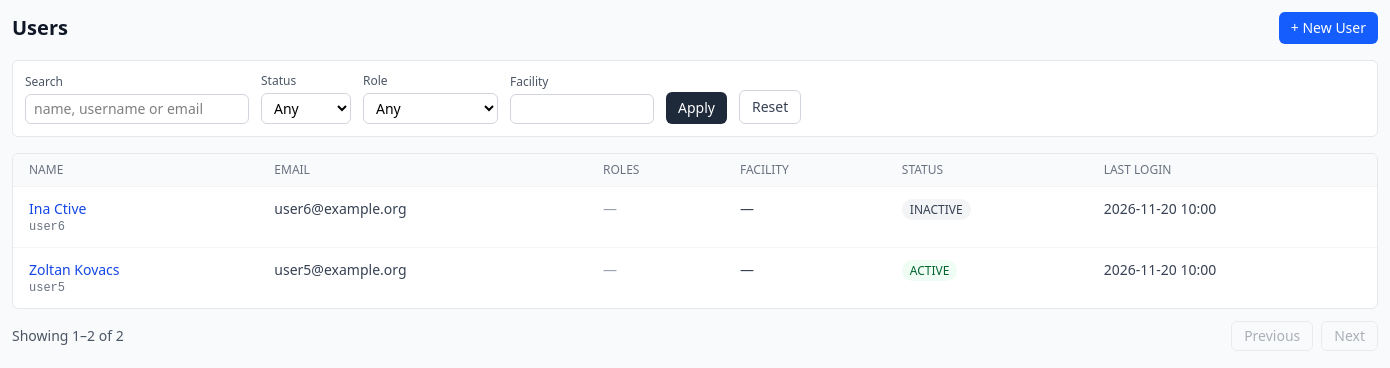
Scenario: UsersListPage › filters by status and by search, sending the filters to the server
Expected: the link "Zoltan Kovacs" is shown, [29,260,120,279]
Select "Inactive" in the dropdown labelled "Status" at (306, 108), box [261,93,351,124]
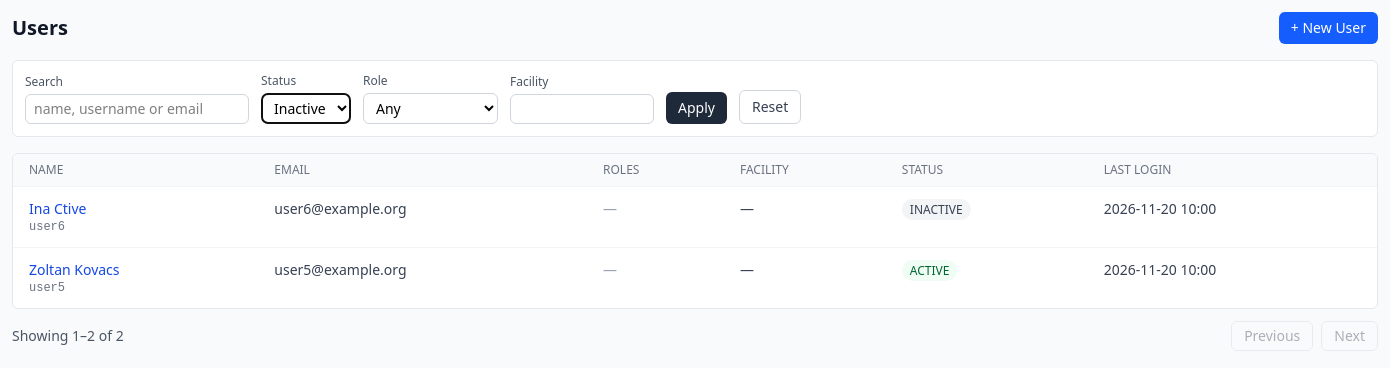
Click the button "Apply".
click(696, 108)  # box [666,92,727,124]
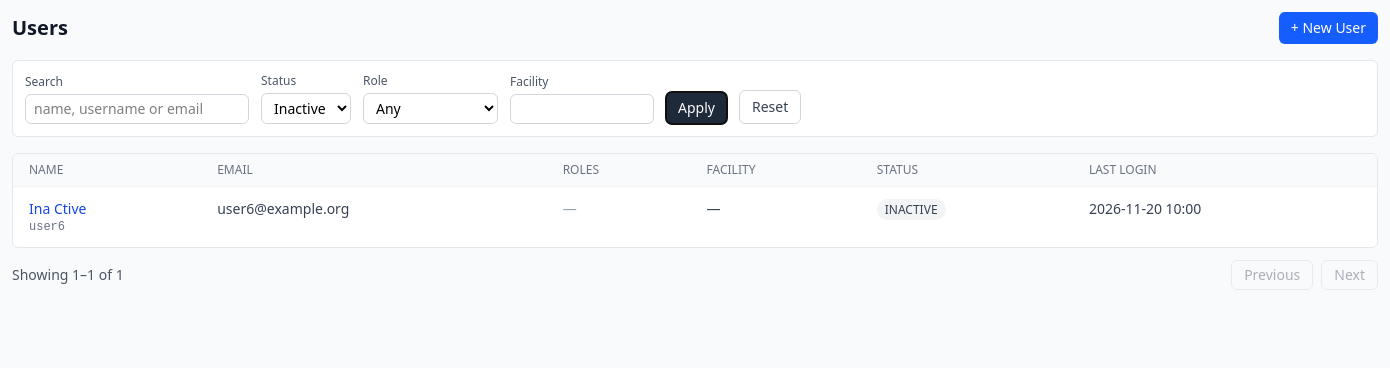
Expected: the link "Ina Ctive" is shown, [29,199,86,218]
Now the link "Zoltan Kovacs" is gone
Click the button "Reset".
click(770, 107)  # box [739,90,801,124]
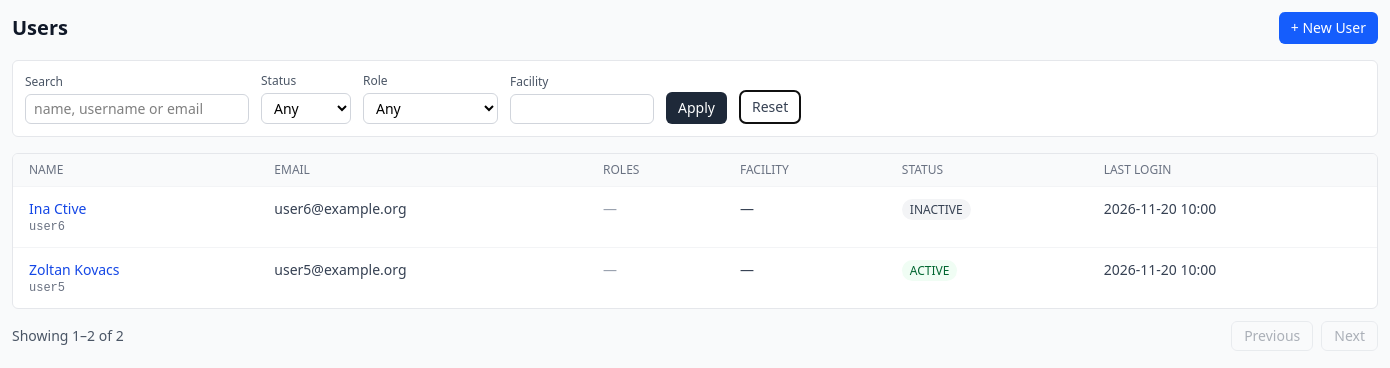
Now the link "Zoltan Kovacs" is shown, box [29,260,120,279]
Type "kovacs" into the field labelled "Search".
click(137, 109); type("kovacs")  # box [25,94,249,124]
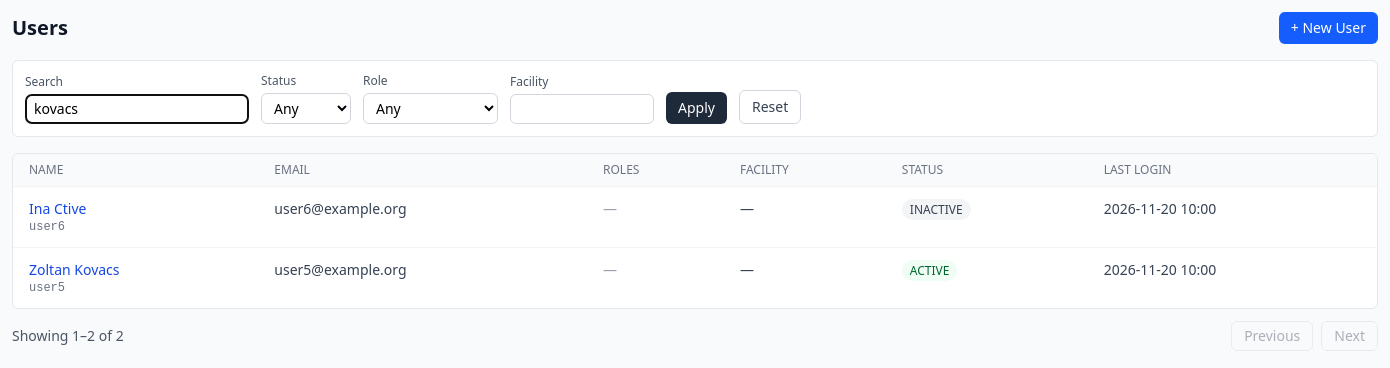
Click the button "Apply".
click(696, 108)  # box [666,92,727,124]
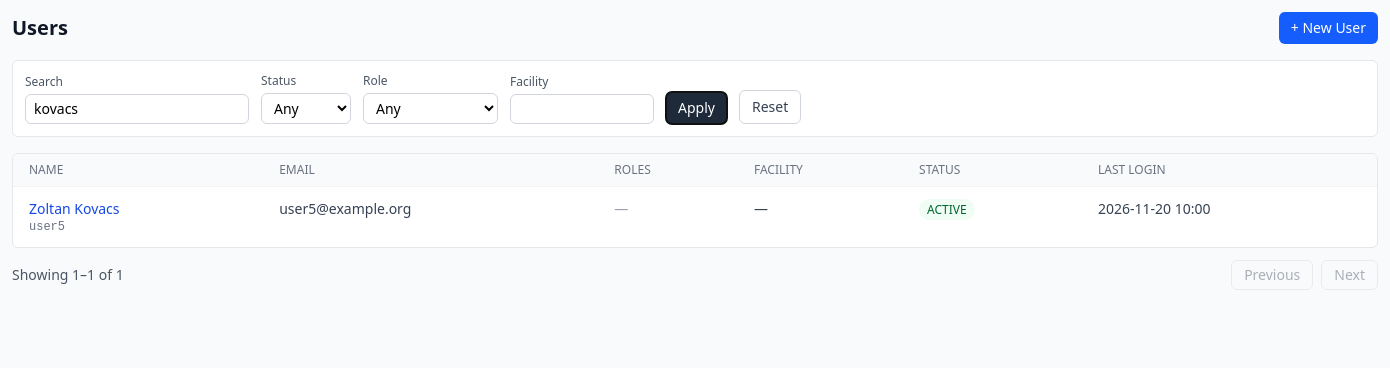
Now the link "Zoltan Kovacs" is shown, box [29,199,120,218]
Now the link "Ina Ctive" is gone
